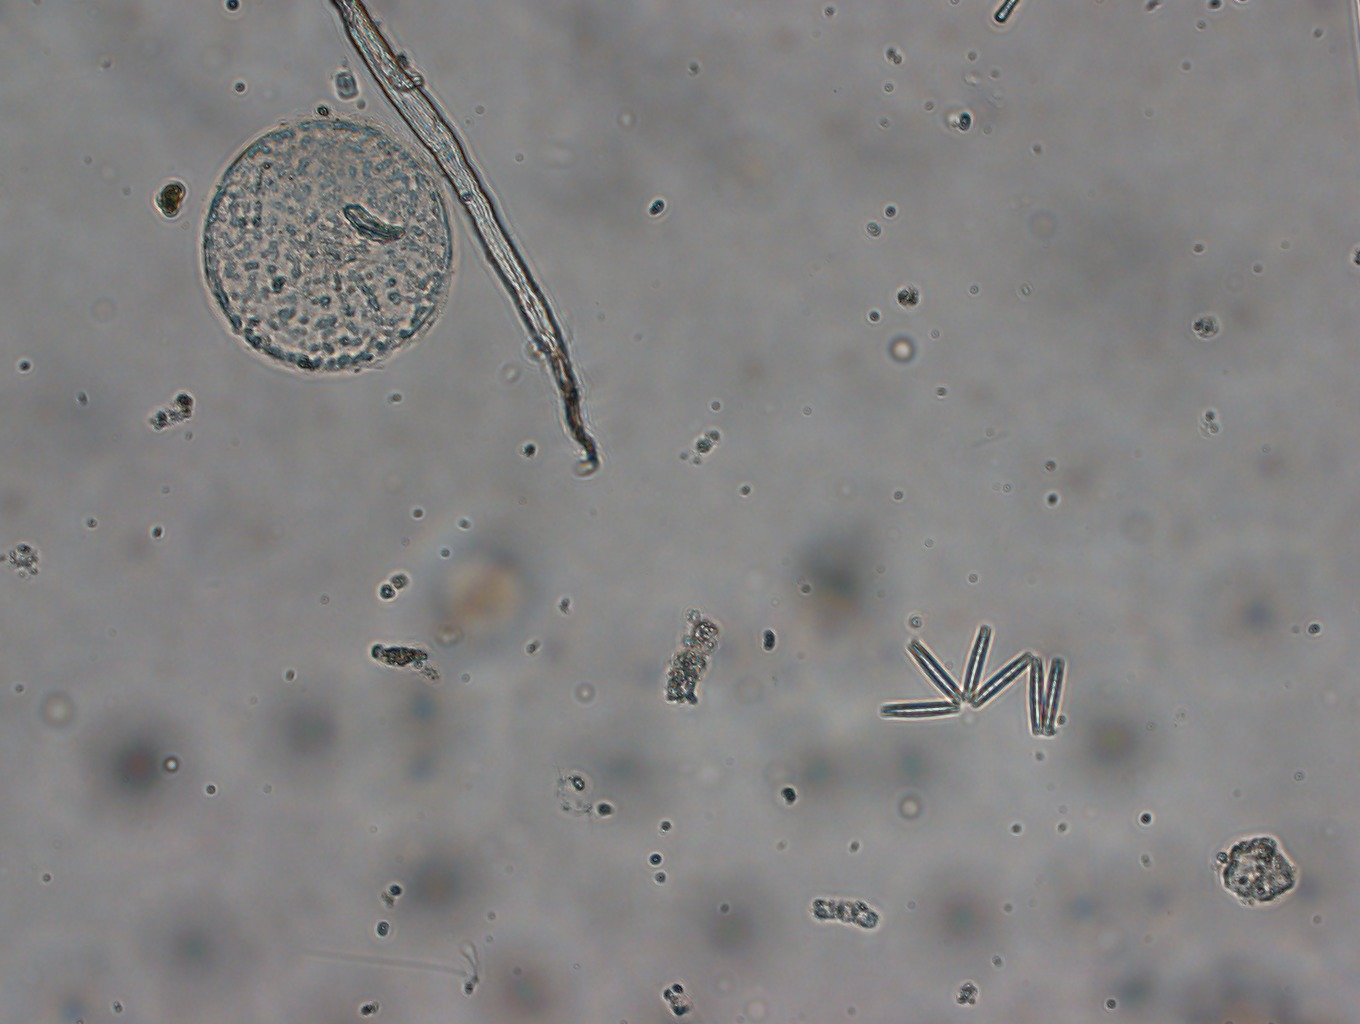coscinodiscus: (197, 117, 453, 376)
thalassionema nitzschioides: (881, 623, 1066, 740)
